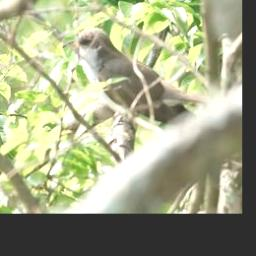Cuckoo: (63, 26, 213, 128)
